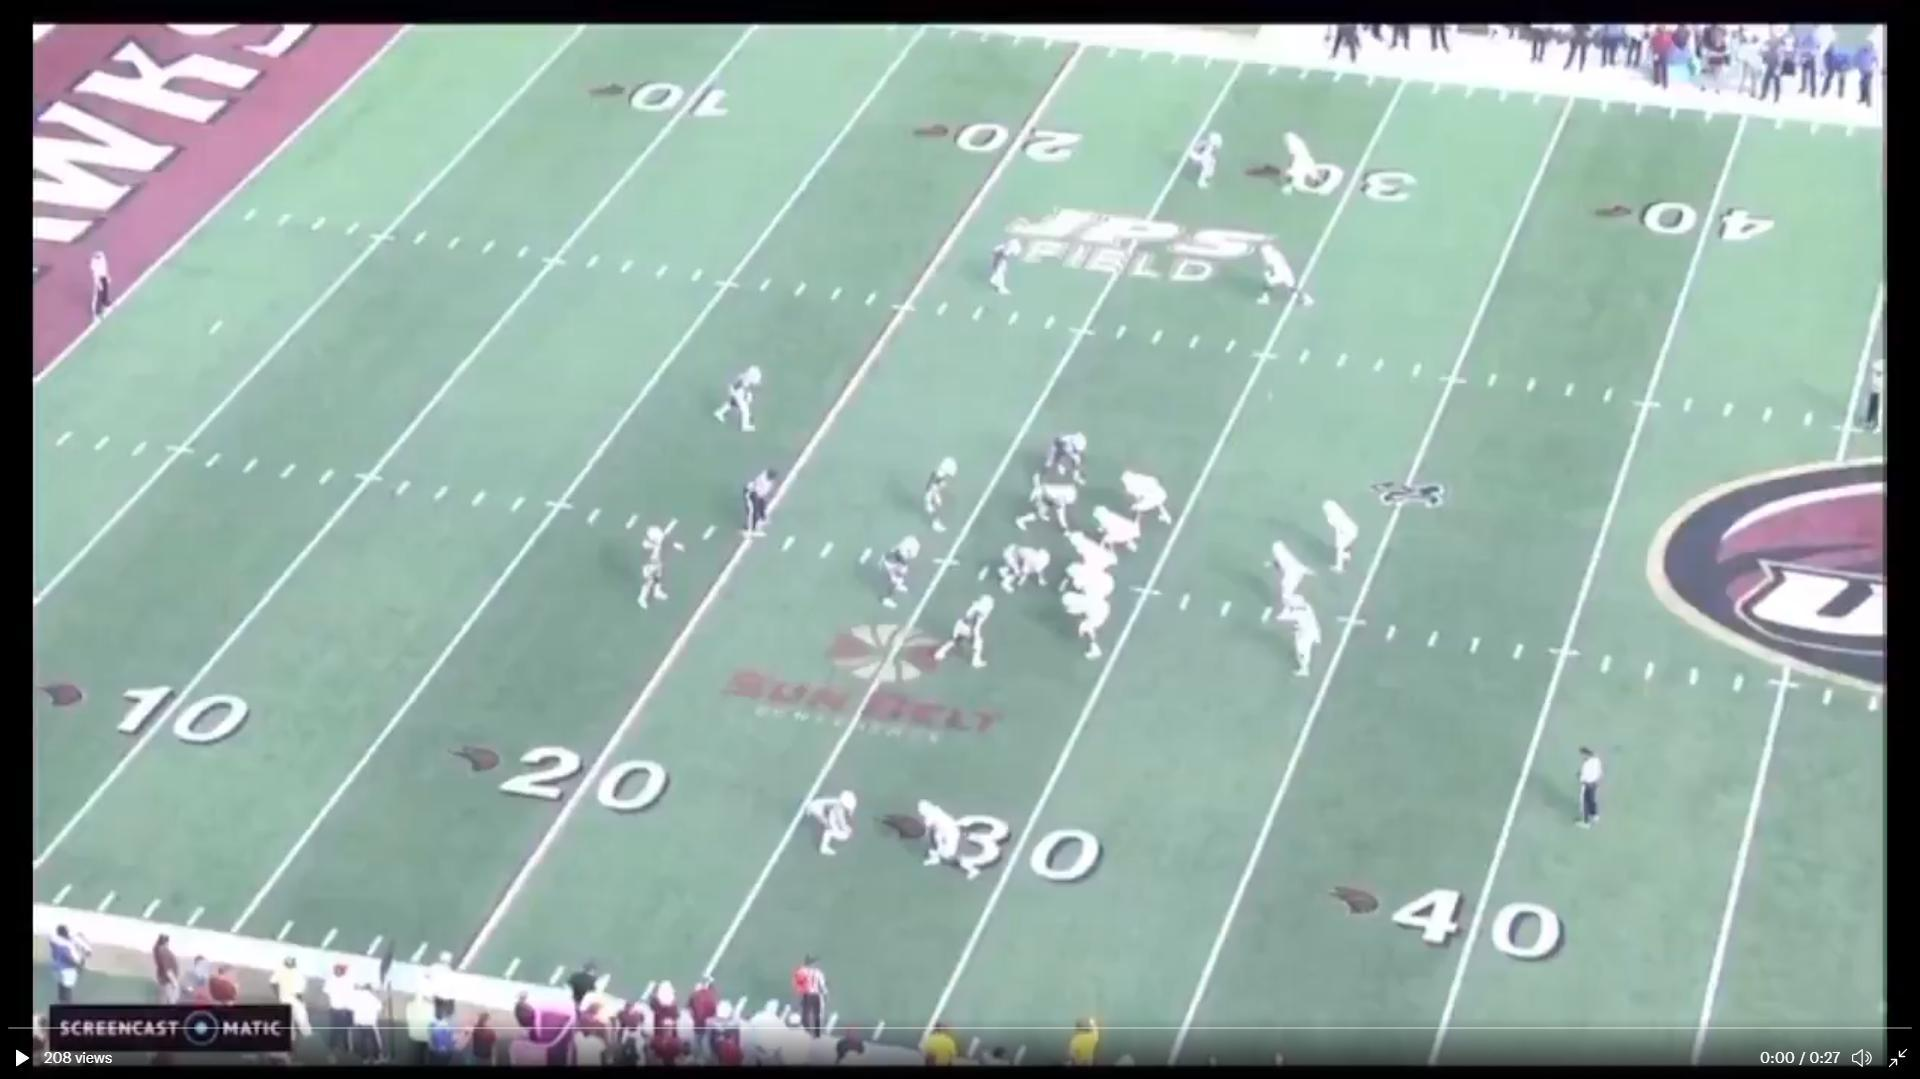defense: (937, 591, 1000, 672), (872, 536, 926, 618), (807, 786, 863, 864), (638, 517, 683, 612), (996, 543, 1065, 601), (719, 360, 770, 438), (984, 218, 1028, 304), (1020, 481, 1085, 537), (1030, 429, 1088, 491), (923, 455, 961, 541), (1184, 126, 1225, 195)
oline: (1061, 584, 1112, 661), (1125, 466, 1179, 531), (1090, 507, 1141, 570), (1068, 531, 1118, 571), (1065, 564, 1116, 599)
qb: (1265, 539, 1315, 628)
ref: (1571, 741, 1613, 835), (743, 461, 785, 541), (84, 243, 119, 327)
skill: (917, 797, 976, 880), (1257, 242, 1321, 317), (1278, 590, 1327, 683), (1322, 495, 1366, 585), (1278, 129, 1327, 199)
